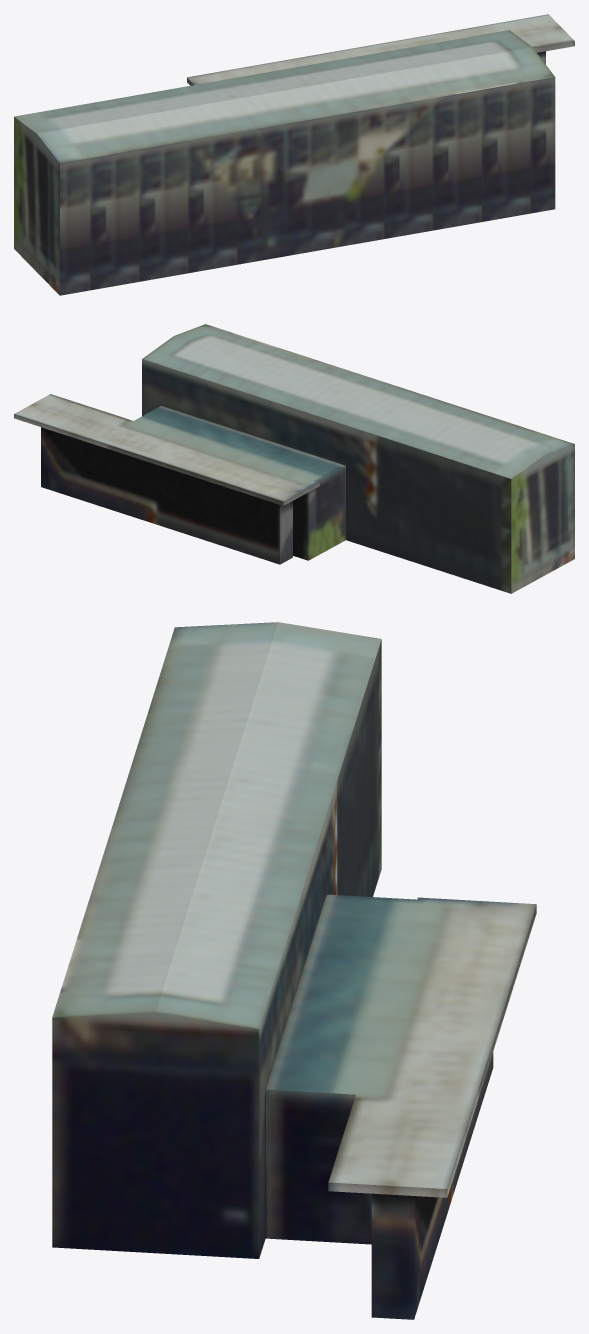
The picture shows the model from 3 angles, top to bottom: view 1: azimuth 30°, elevation 25°; view 2: azimuth 150°, elevation 25°; view 3: azimuth 270°, elevation 25°; orthographic projection. The views are drawn at different scales.
Visible parts, largest first — view 1: 7_0.glb; view 2: 7_0.glb; view 3: 7_0.glb.
Part boxes in pixels (x1,y1,x2,y2): 7_0.glb: (14,14,574,295); 7_0.glb: (14,324,574,593); 7_0.glb: (52,622,536,1319).
Bounding box in the file's own units: 29.5 × 6.89 × 12.56.
1 material, 1 textured.
